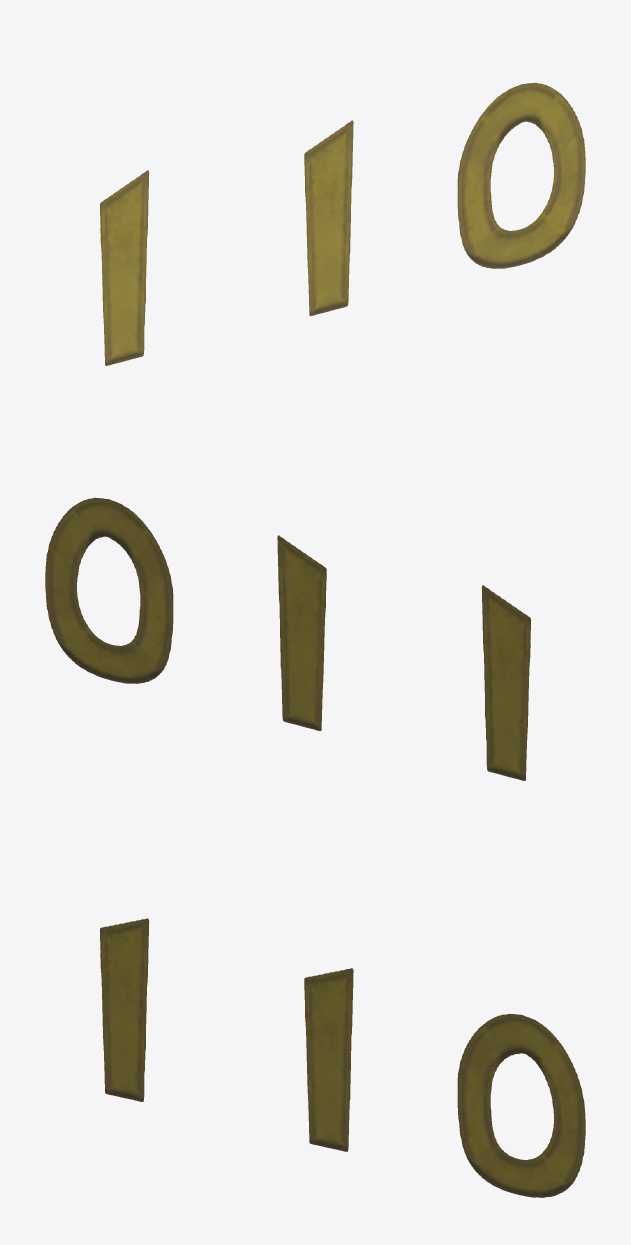
The model's file is roomSign110.FBX.
3 renders of one model, top to bottom at view 1: azimuth 30°, elevation 25°; view 2: azimuth 150°, elevation 25°; view 3: azimuth 330°, elevation 25°, orthographic.
Parts seen in each view (by area): view 1: SM_RoomSign110; view 2: SM_RoomSign110; view 3: SM_RoomSign110.
Boxes of the visible parts, left/top/right/bottom form: SM_RoomSign110: left=100, top=82, right=585, bottom=365; SM_RoomSign110: left=45, top=497, right=530, bottom=780; SM_RoomSign110: left=100, top=918, right=585, bottom=1197.
Bounding box in the file's own units: 19.88 × 7.55 × 3.95e-24.
1 material, 1 textured.
